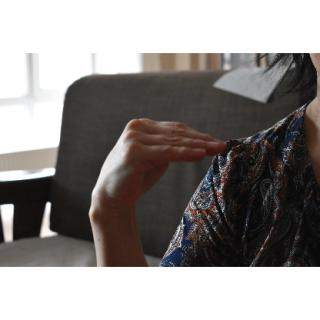HAA: (86, 113, 230, 220)
